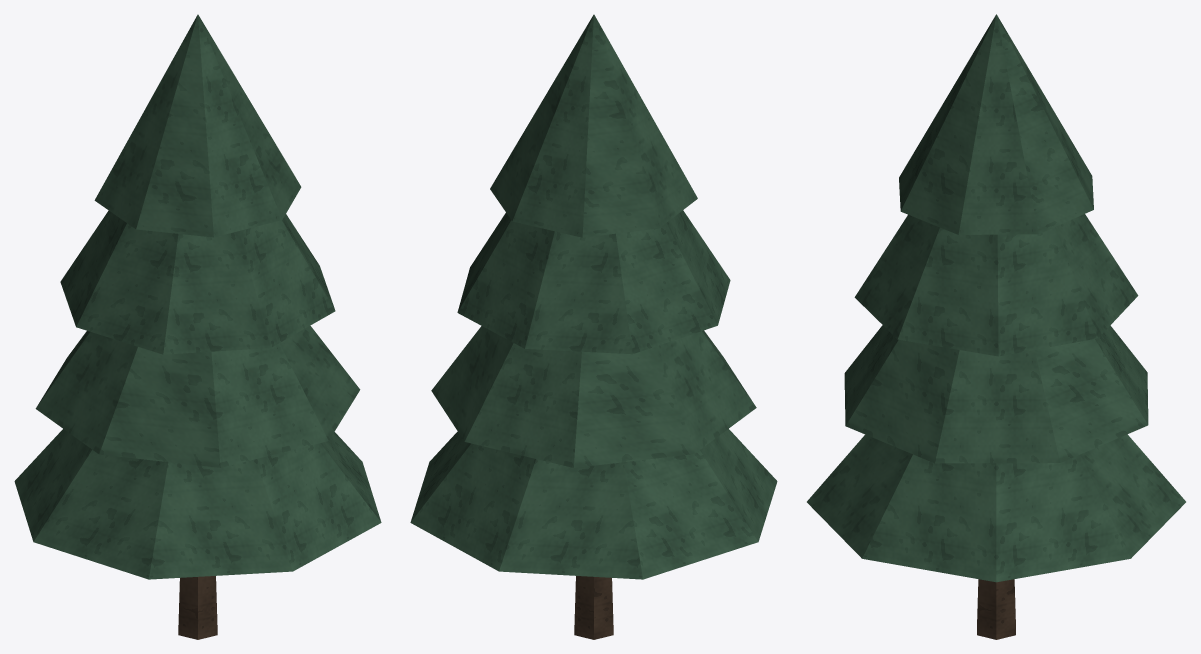
Rendered from pine_tree_a.glb.
3 views of the same model, side by side, from view 1: azimuth 30°, elevation 25°; view 2: azimuth 150°, elevation 25°; view 3: azimuth 270°, elevation 25° (orthographic).
Visible parts, largest first — view 1: PineTreeA; view 2: PineTreeA; view 3: PineTreeA.
Part boxes in pixels (x1,y1,x2,y2): PineTreeA: [14, 14, 381, 639]; PineTreeA: [410, 14, 777, 639]; PineTreeA: [807, 14, 1185, 639].
Bounding box in the file's own units: 3.3 × 5.91 × 3.3.
2 materials, 2 textured.
